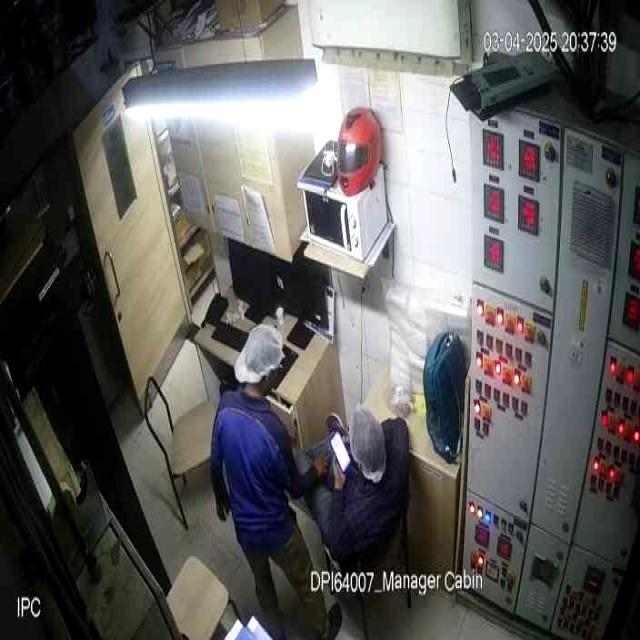helmet: (335, 107, 382, 196)
